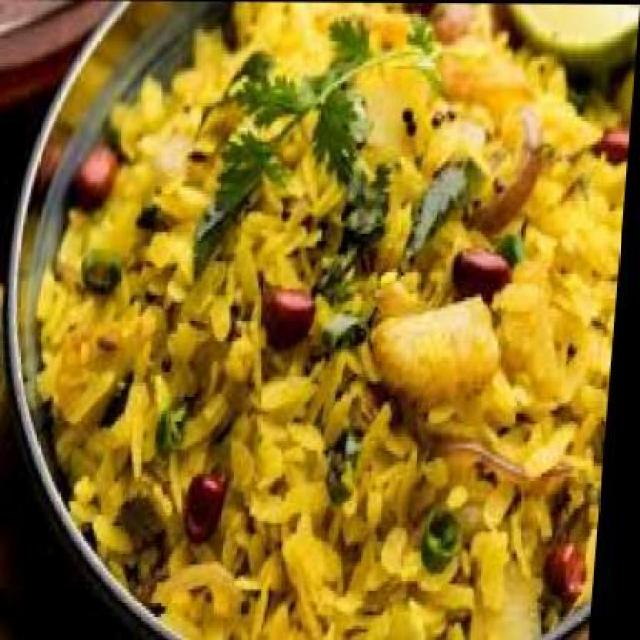poha: (20, 0, 640, 640)
